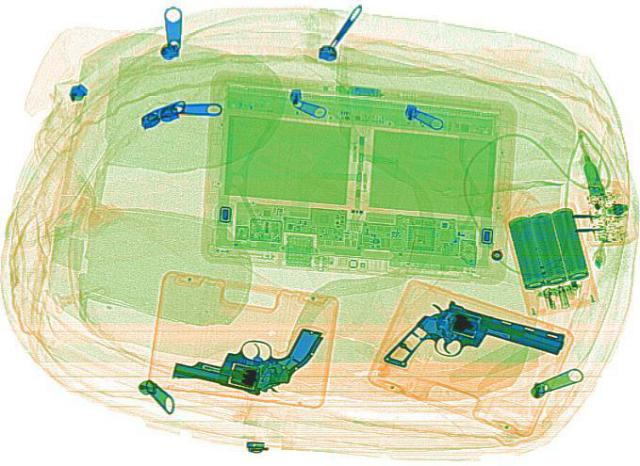Gun: (374, 290, 572, 405), (168, 304, 322, 399)
